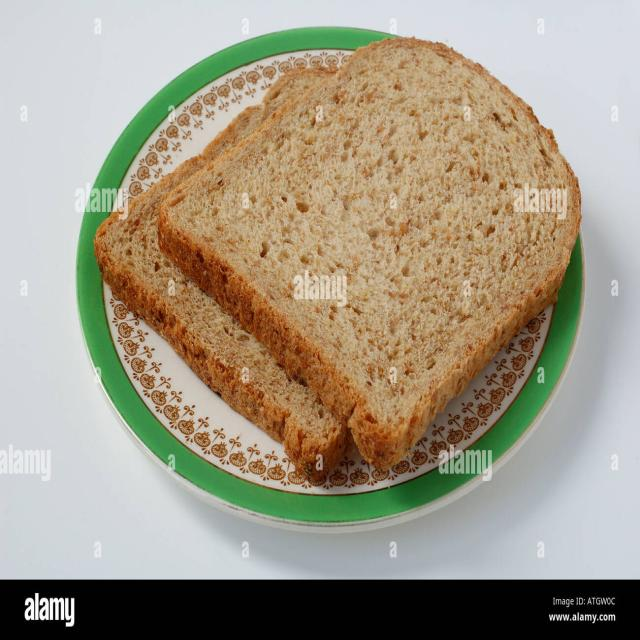Bread: (159, 37, 581, 469), (94, 68, 351, 480)
